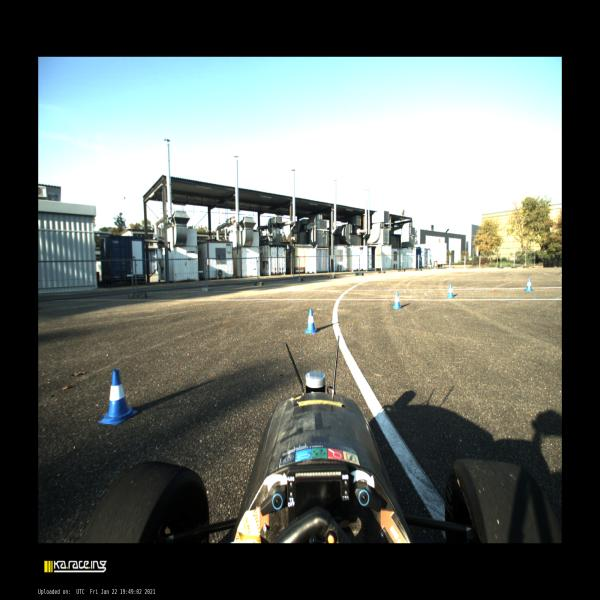blue_cone: (98, 370, 138, 424), (304, 309, 318, 333), (392, 292, 402, 308), (525, 278, 533, 291), (447, 284, 454, 298)
